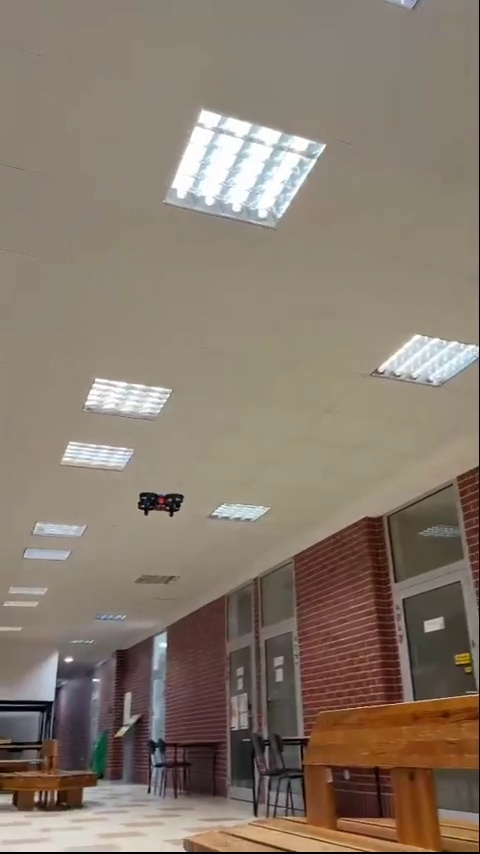drone: (135, 488, 186, 515)
